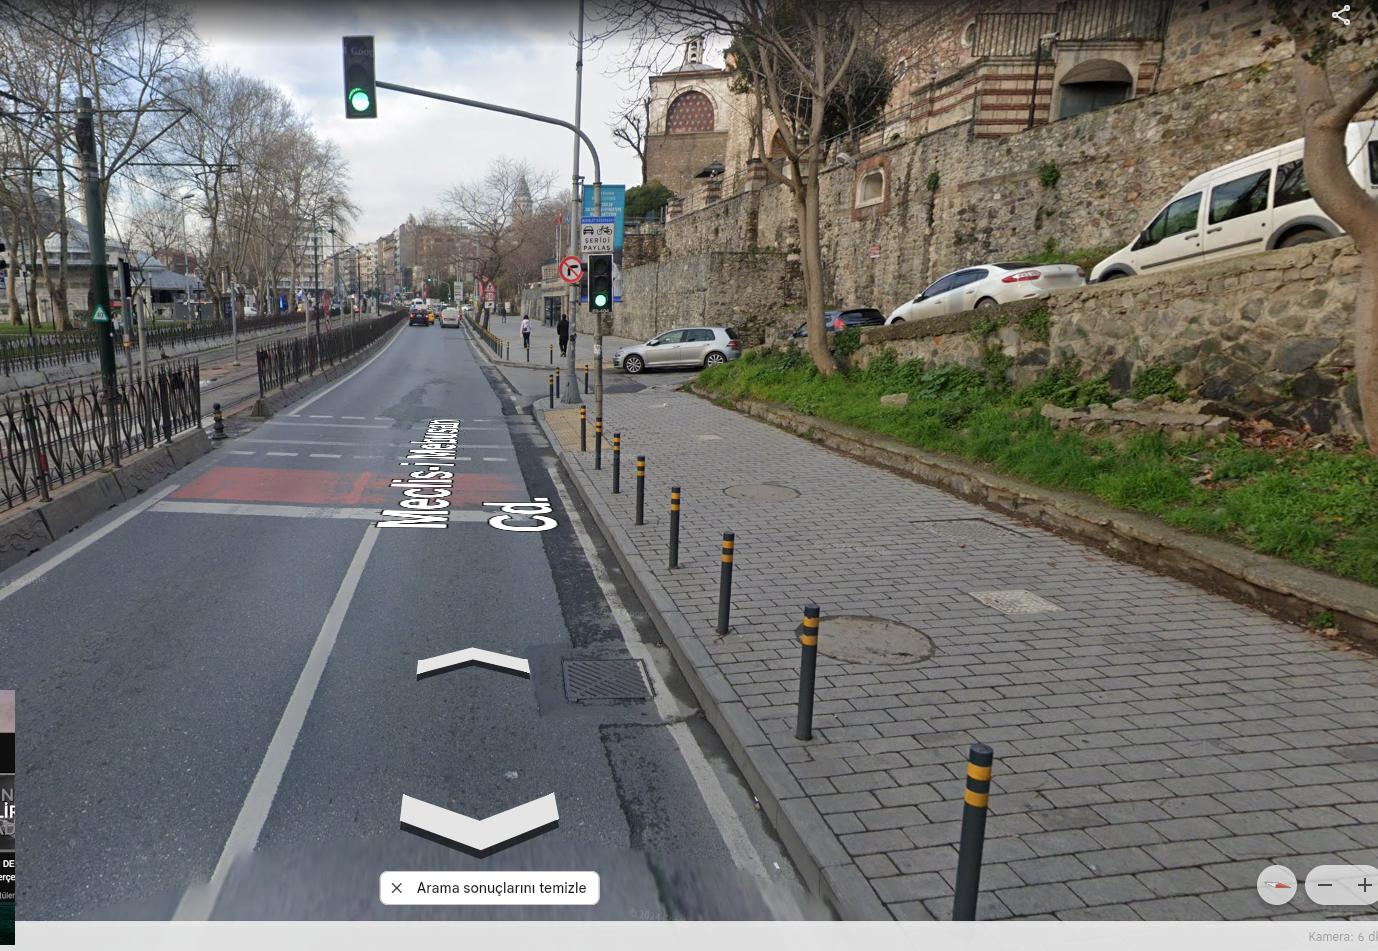greenlight: (346, 36, 373, 115), (593, 256, 615, 311), (428, 274, 431, 282), (448, 294, 451, 302)
rightturnsareforbidden: (561, 258, 581, 282)
